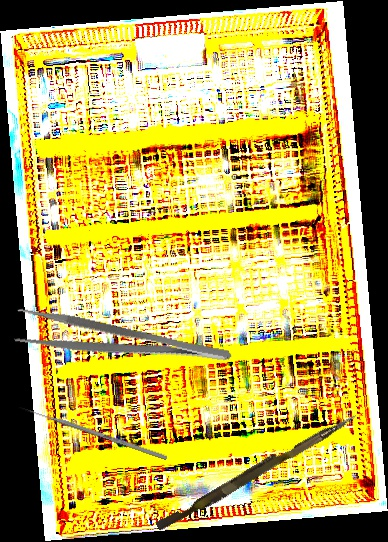Dressing Forceps: (10, 304, 234, 384)
Pusher: (155, 405, 358, 537), (18, 404, 168, 461)
